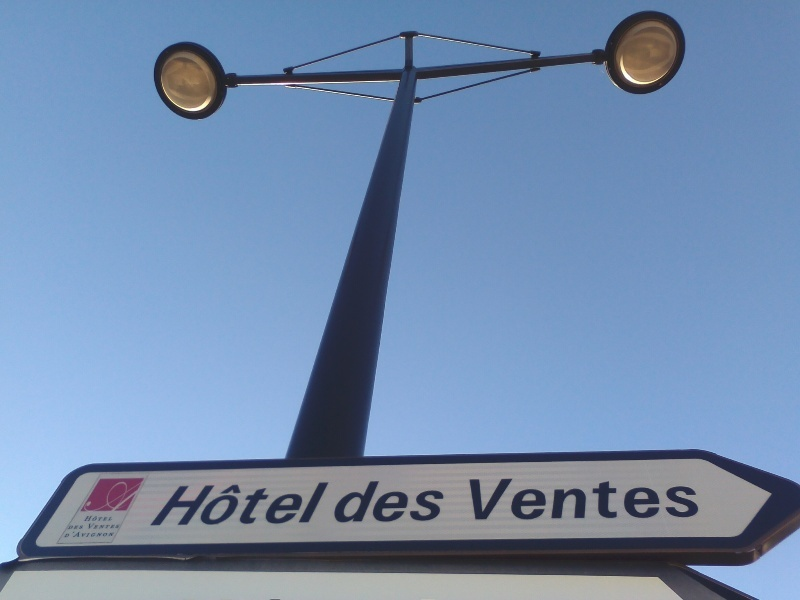text: (193, 482, 208, 527), (209, 482, 224, 527), (225, 482, 240, 527), (241, 482, 256, 527), (257, 482, 272, 527), (273, 482, 288, 527), (289, 482, 304, 527), (305, 482, 320, 527), (353, 479, 368, 523), (369, 479, 384, 523), (385, 479, 400, 523), (401, 479, 416, 523), (417, 479, 432, 523), (433, 479, 448, 523), (481, 478, 496, 521), (497, 478, 512, 521), (513, 478, 528, 521), (529, 478, 544, 521), (545, 478, 560, 521), (561, 478, 576, 521), (577, 478, 592, 521), (593, 478, 608, 521), (609, 478, 624, 521), (625, 478, 640, 521), (641, 478, 656, 521), (657, 478, 672, 521), (673, 478, 688, 521), (468, 478, 480, 521), (689, 478, 701, 521), (181, 482, 192, 527), (321, 482, 331, 527), (344, 479, 352, 523), (81, 531, 96, 538), (97, 531, 112, 538), (449, 479, 451, 523), (68, 531, 80, 538), (97, 516, 113, 521), (97, 524, 112, 529), (86, 516, 96, 521), (70, 526, 80, 530), (113, 524, 121, 529), (89, 524, 96, 529), (113, 531, 117, 538), (81, 526, 84, 530)
